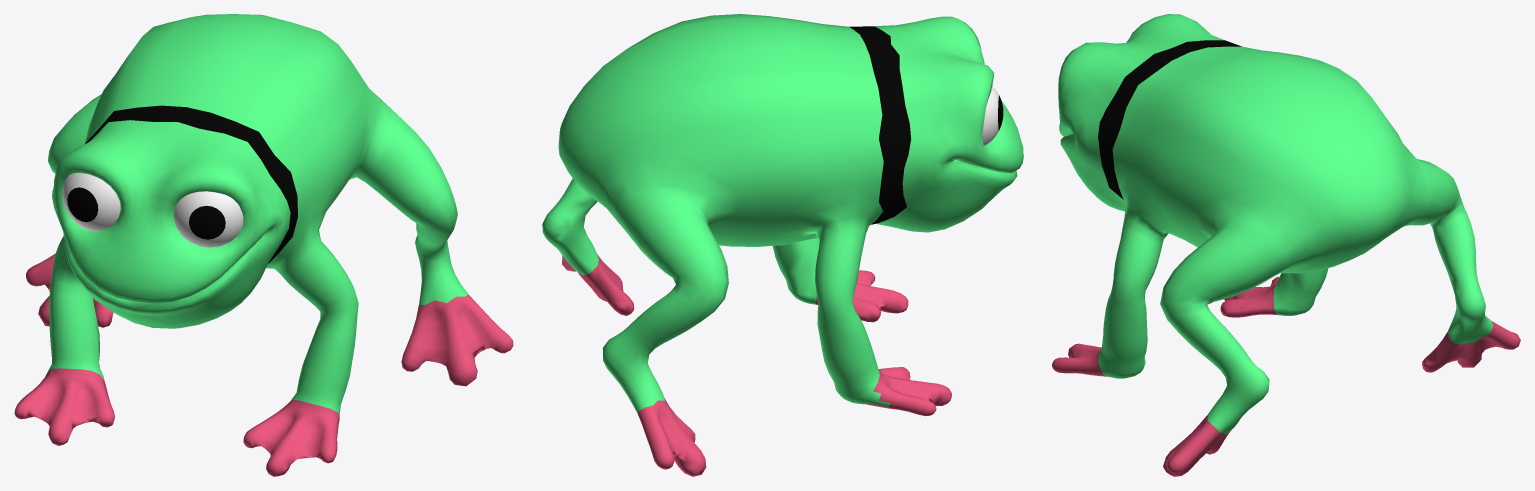
Rendered from ToyObject_184.fbx.
3 renders of one model, left to right at view 1: azimuth 30°, elevation 25°; view 2: azimuth 150°, elevation 25°; view 3: azimuth 270°, elevation 25°, orthographic. The views are drawn at different scales.
Visible parts, largest first — view 1: Object.039; view 2: Object.039; view 3: Object.039.
Part boxes in pixels (x1,y1,x2,y2): Object.039: (14,14,513,476); Object.039: (542,14,1023,476); Object.039: (1052,14,1520,476).
Size of the model in its own units: 0.1599 by 0.1216 by 0.1601.
